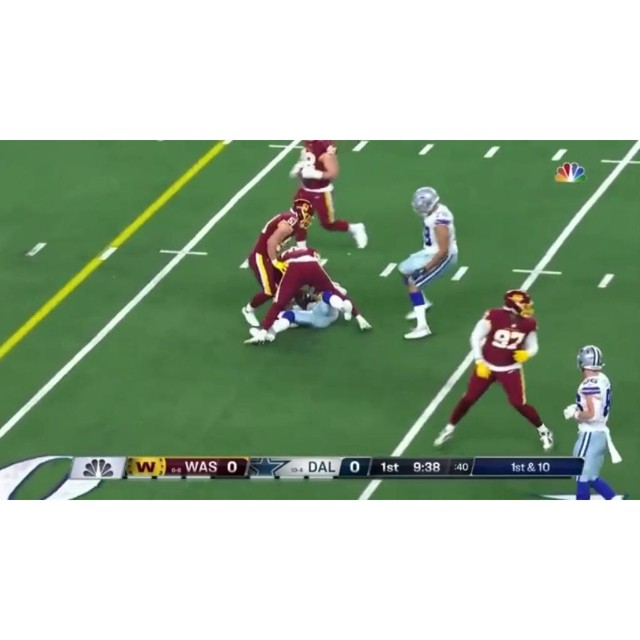american-football-player: (433, 287, 555, 456), (392, 187, 461, 339), (563, 345, 629, 500), (239, 201, 315, 327), (291, 142, 366, 249), (250, 283, 370, 343)
